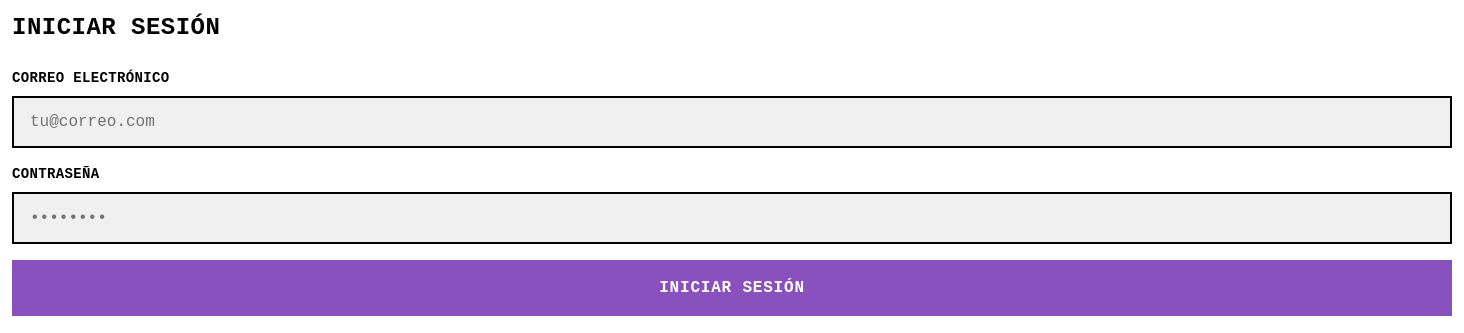
Test: LoginForm Integration › disables submit button while loading
This screenshot has width=1464, height=333.
Type "test@example.com" into the field labelled "Correo Electrónico" at (732, 122), box [12,96,1452,148]
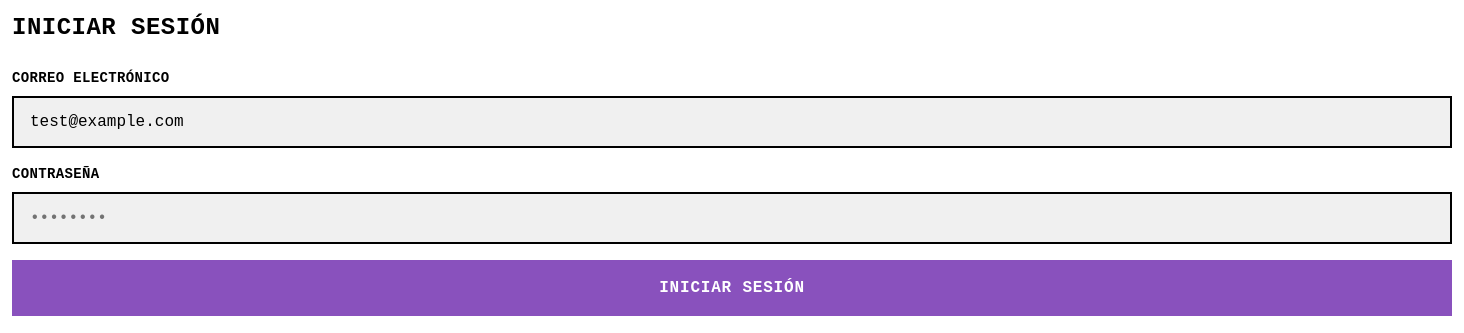
Type "password123" into the password field labelled "Contraseña" at (732, 218), box [12,192,1452,244]
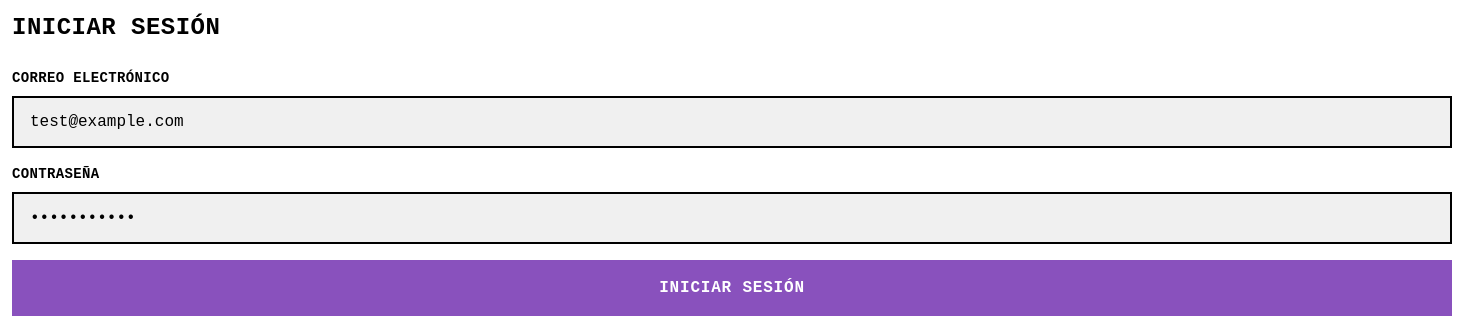
Click the button "Iniciar Sesión" at (732, 288), box [12,260,1452,316]
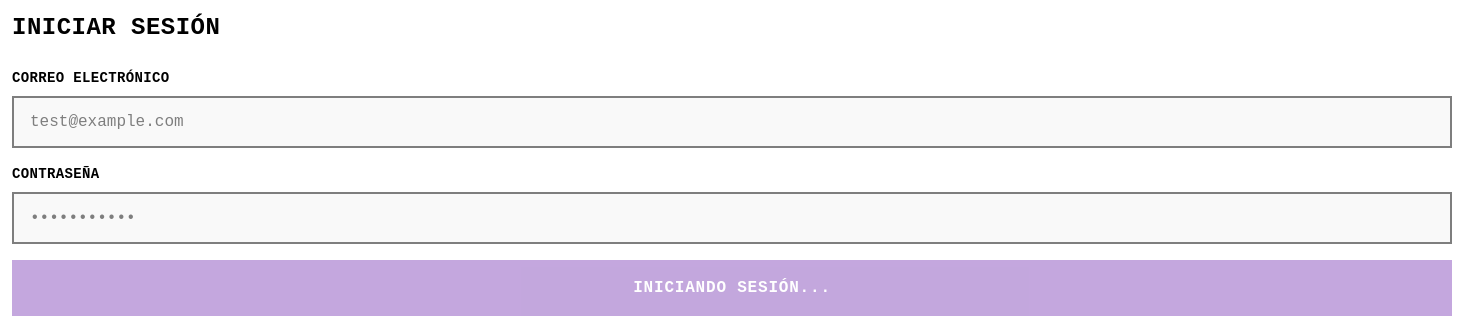
Now the button "Iniciando sesión..." is disabled, box [12,260,1452,316]
